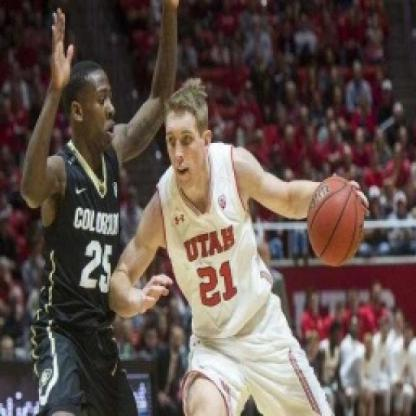basketball: (300, 171, 370, 270)
